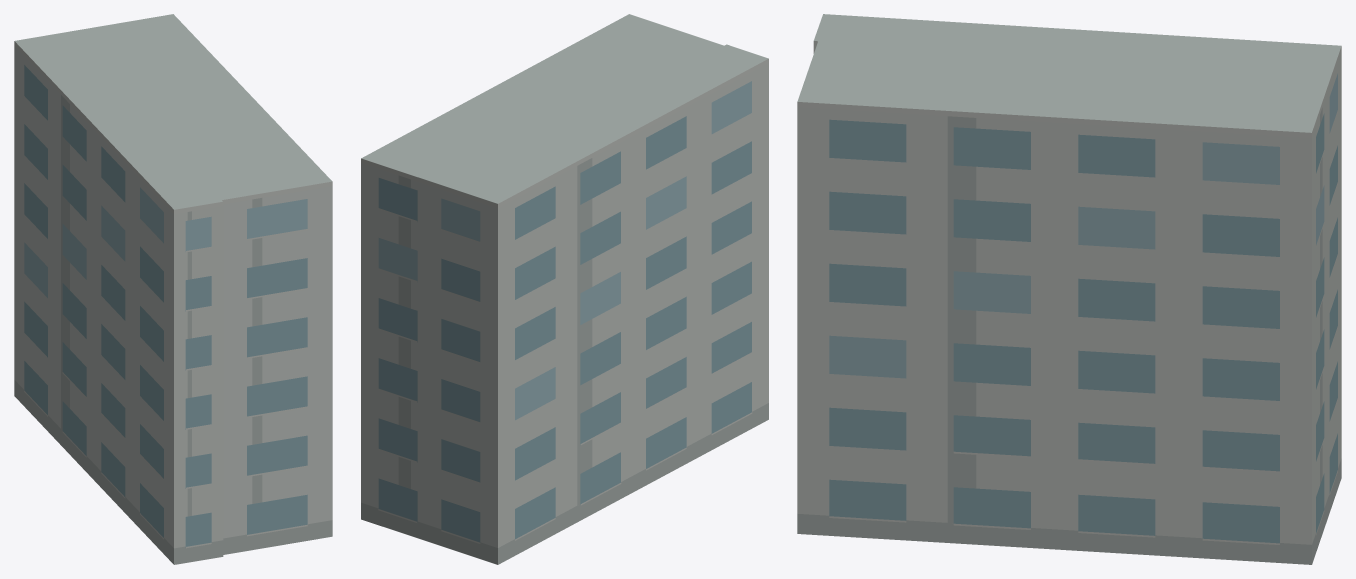
File: survey-upis-33000846.glb
3 renders of one model, left to right at view 1: azimuth 30°, elevation 25°; view 2: azimuth 150°, elevation 25°; view 3: azimuth 270°, elevation 25°, orthographic. The views are drawn at different scales.
Visible parts, largest first — view 1: survey-upis-33000846.tmp; view 2: survey-upis-33000846.tmp; view 3: survey-upis-33000846.tmp.
Part boxes in pixels (x1,y1,x2,y2): survey-upis-33000846.tmp: [14, 14, 332, 564]; survey-upis-33000846.tmp: [361, 14, 768, 564]; survey-upis-33000846.tmp: [797, 14, 1341, 564].
Size of the model in its own units: 11.69 by 19.8 by 22.62.
